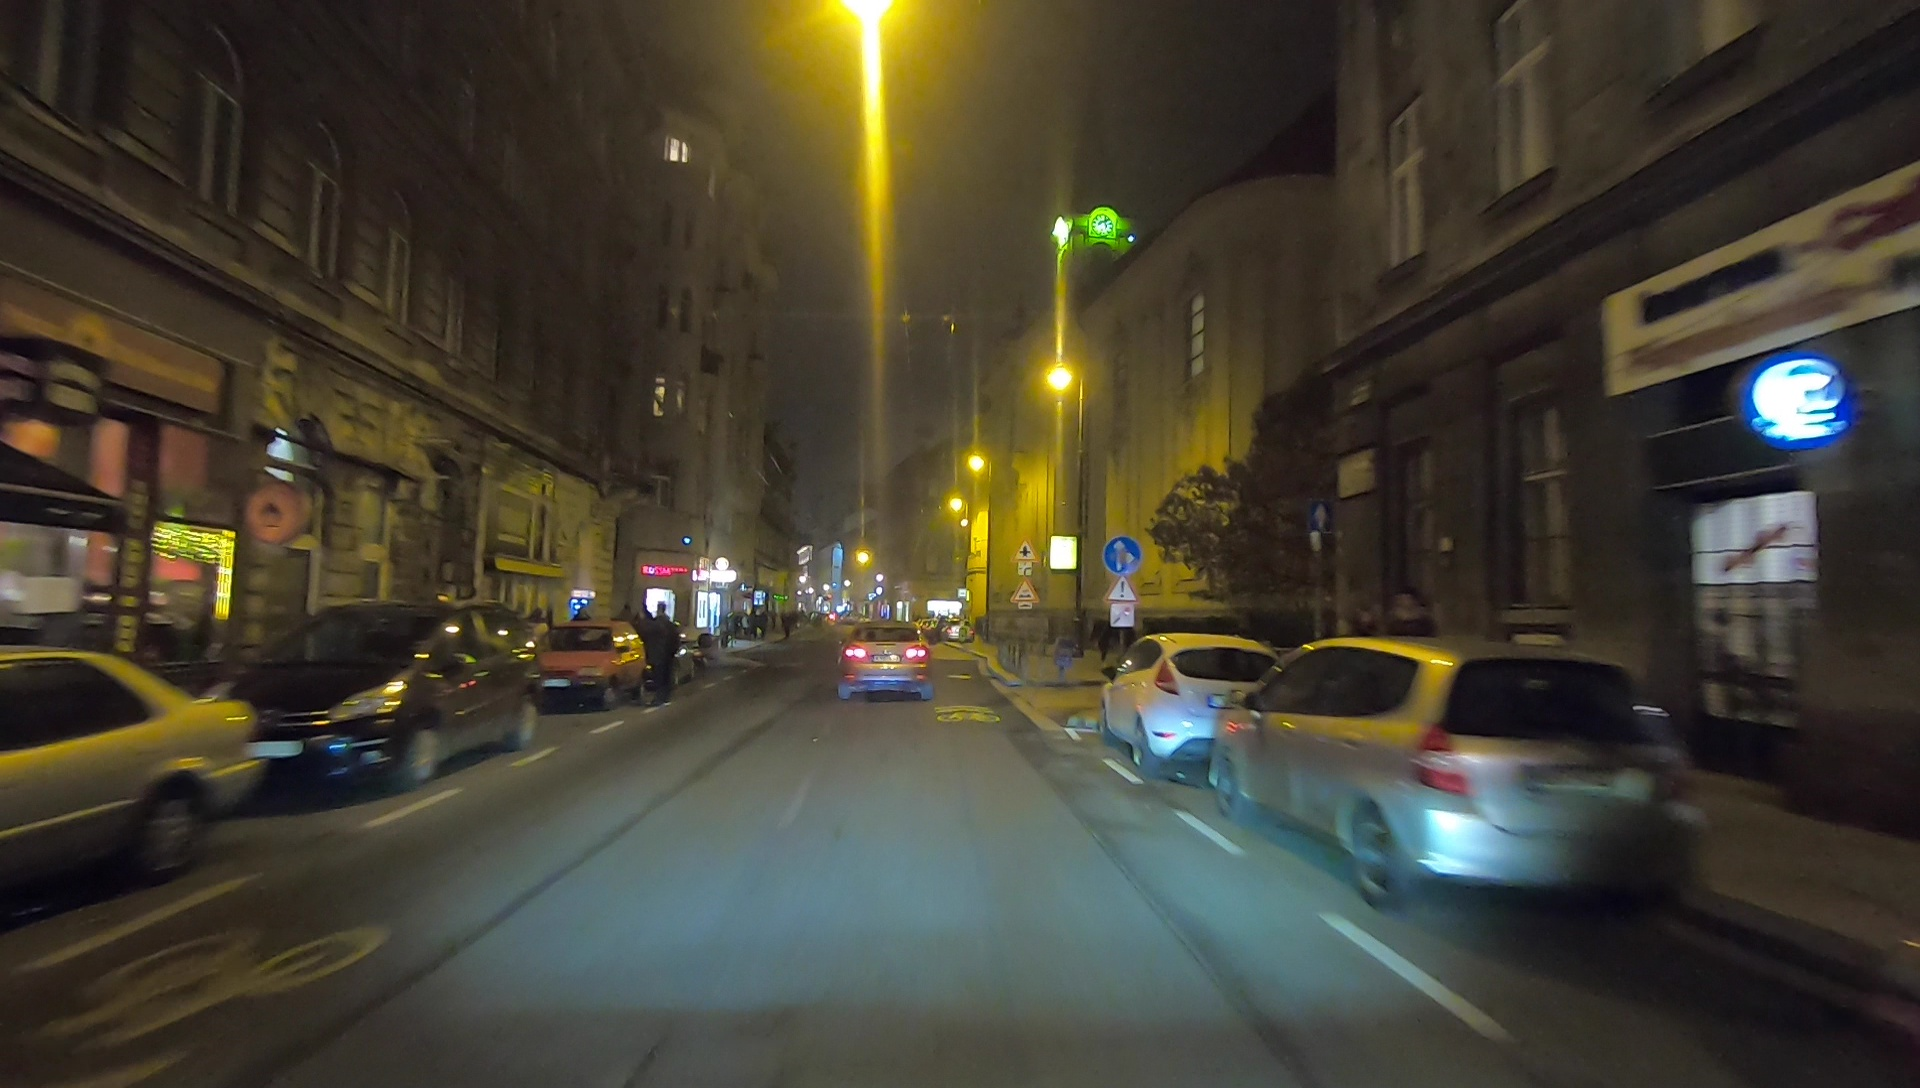person: (1389, 595, 1430, 702), (641, 608, 675, 699)
